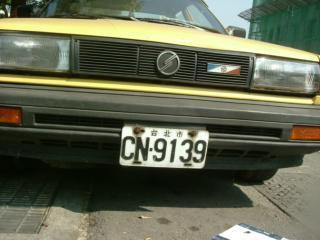plate: (118, 120, 208, 172)
